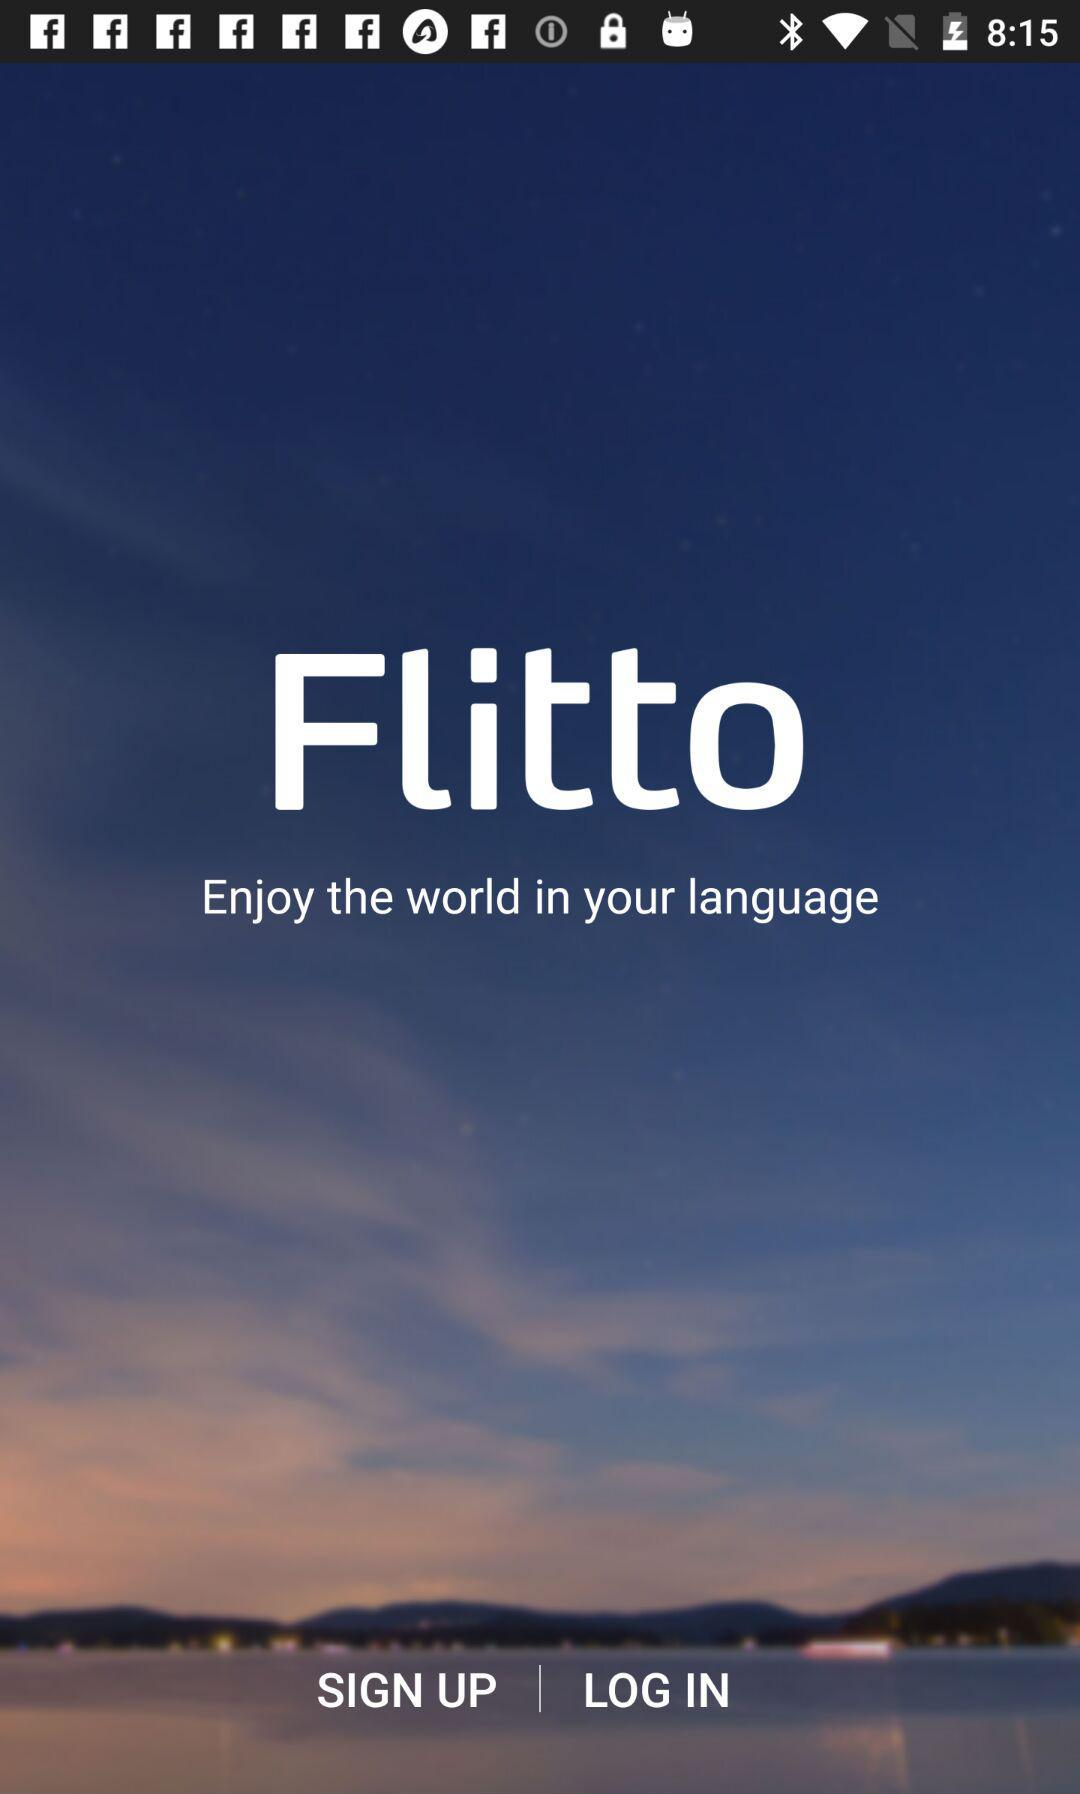BackgroundImage: (1, 64, 1080, 1794)
Text: (275, 648, 805, 812), (204, 876, 880, 926), (316, 1672, 498, 1709), (585, 1672, 730, 1709)
UpperTaskBar: (1, 1, 1080, 64)
